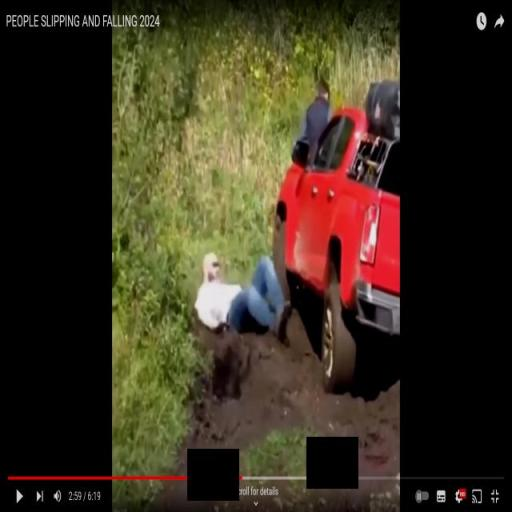Fall: (194, 246, 294, 347)
